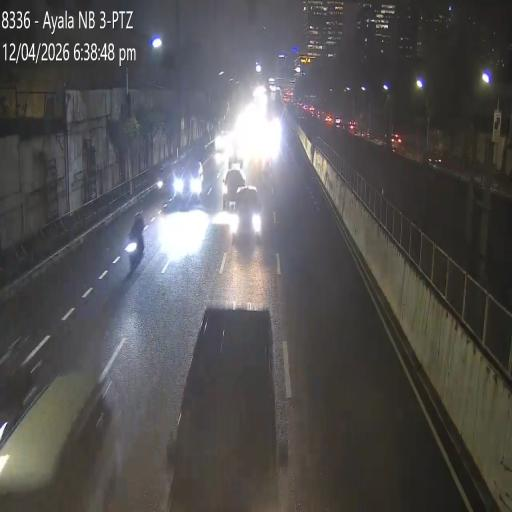Car: (164, 303, 278, 508), (1, 364, 116, 509), (172, 156, 204, 206), (234, 184, 262, 240), (222, 169, 246, 209)
Motor: (126, 218, 148, 275)
Not Accident: (224, 169, 260, 231)
